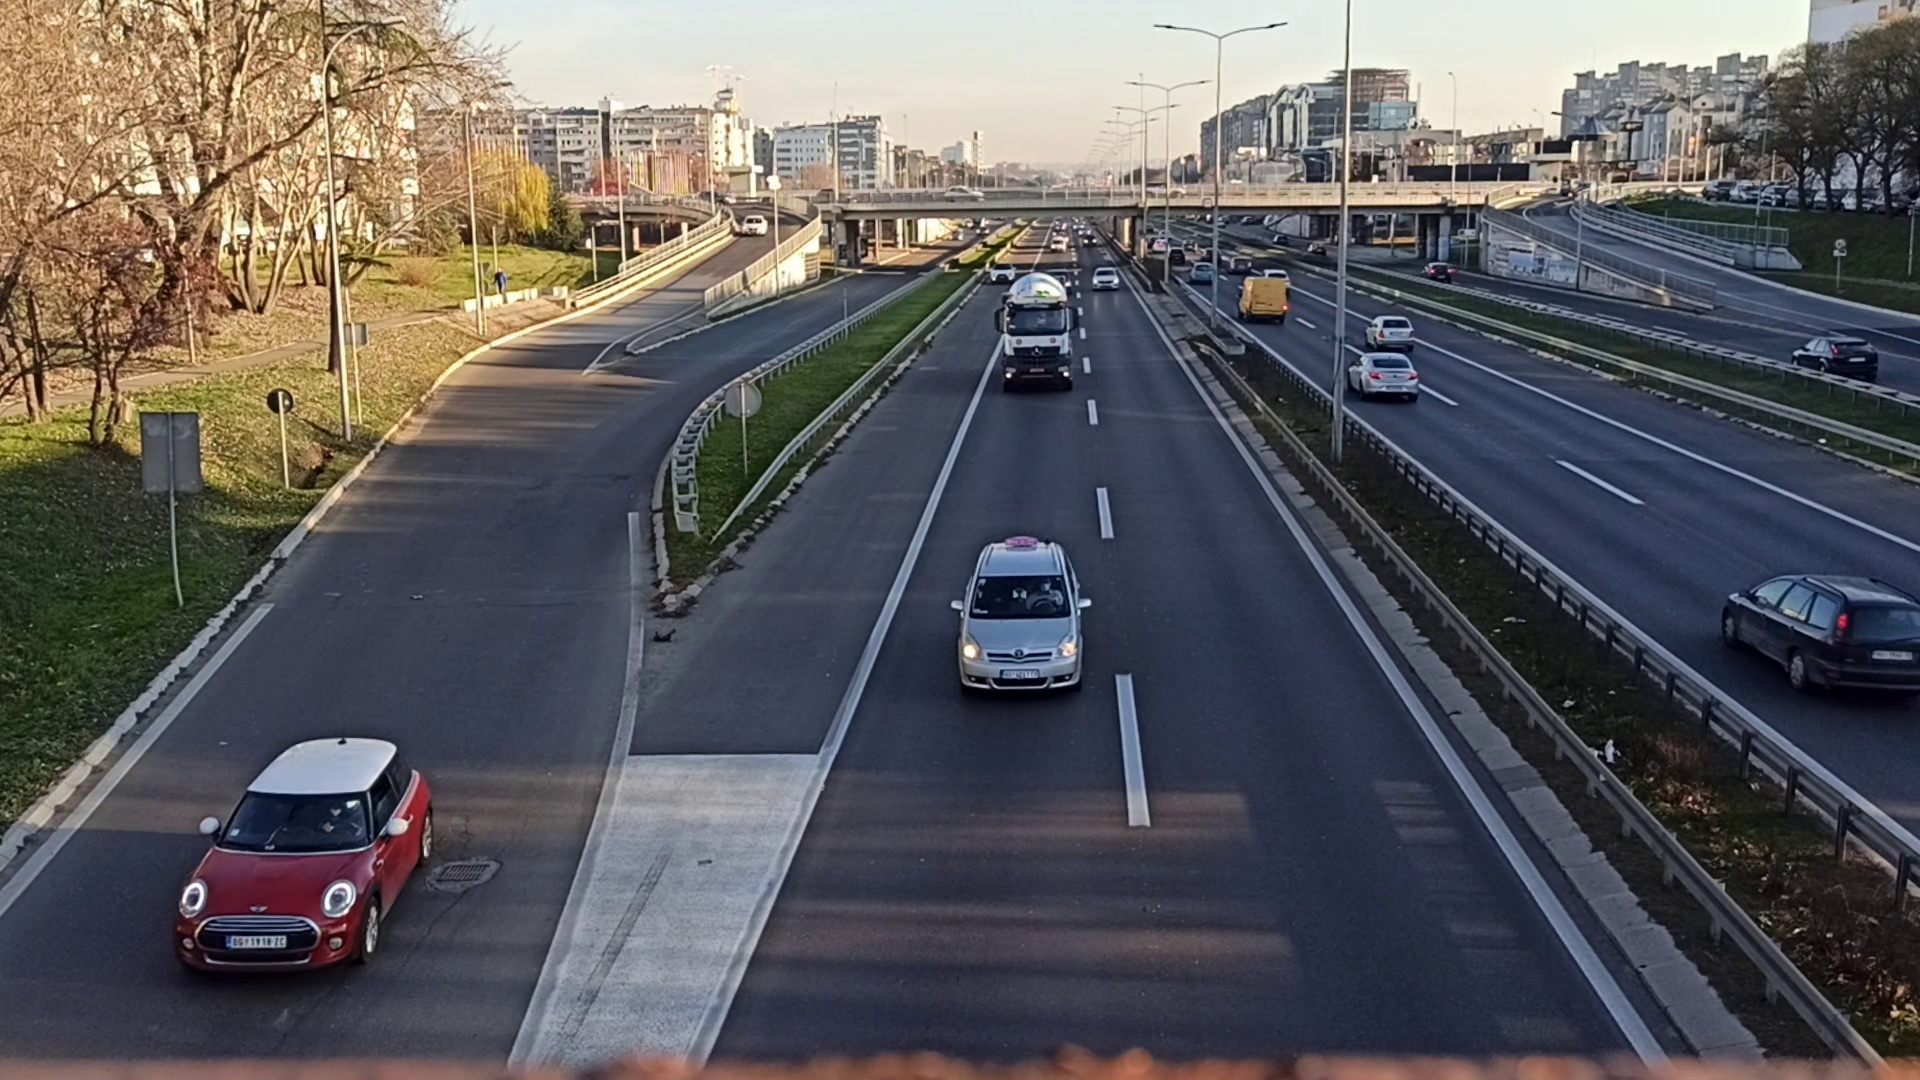car: (169, 738, 436, 978), (1716, 562, 1920, 699), (955, 533, 1091, 696), (1346, 349, 1416, 400), (1364, 314, 1416, 347), (1092, 268, 1118, 289)
truck: (1000, 276, 1072, 384)
